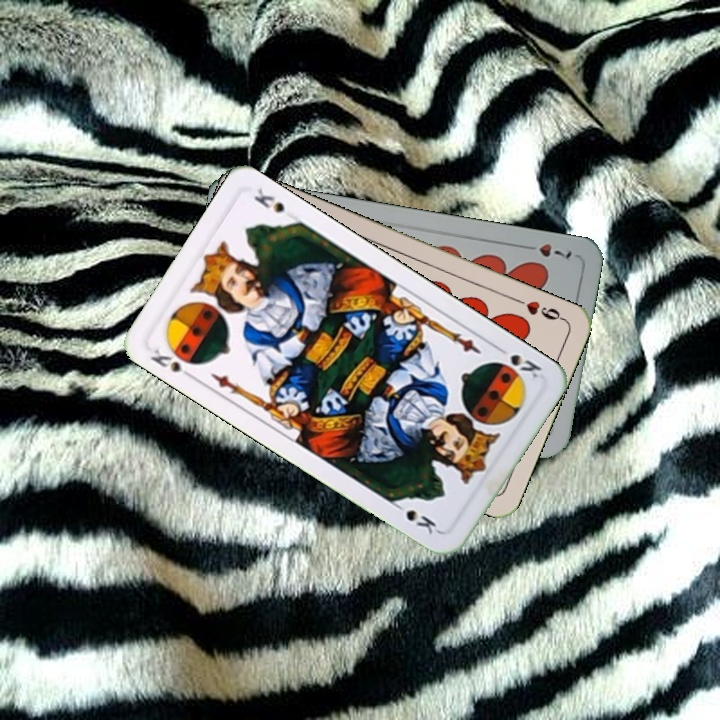H7: (518, 239, 575, 262)
H9: (511, 294, 567, 324)
SK: (146, 341, 201, 383), (491, 341, 544, 381)
